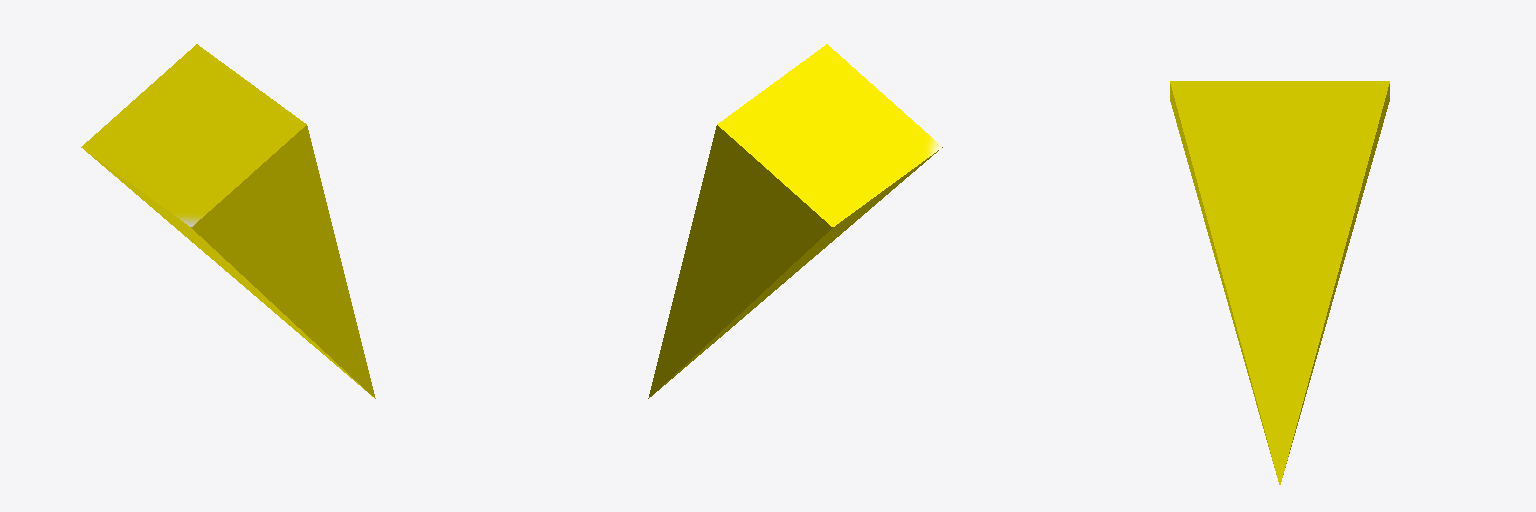
3 views of the same model, side by side, from view 1: azimuth 30°, elevation 25°; view 2: azimuth 150°, elevation 25°; view 3: azimuth 270°, elevation 25° (orthographic).
Parts seen in each view (by area): view 1: 立方体.001; view 2: 立方体.001; view 3: 立方体.001.
Part boxes in pixels (bbox=[...]): 立方体.001: bbox=[81, 44, 375, 398]; 立方体.001: bbox=[648, 44, 942, 398]; 立方体.001: bbox=[1170, 81, 1389, 484].
Bounding box in the file's own units: 1.39 × 1.91 × 1.1.
1 materials, 1 textured.